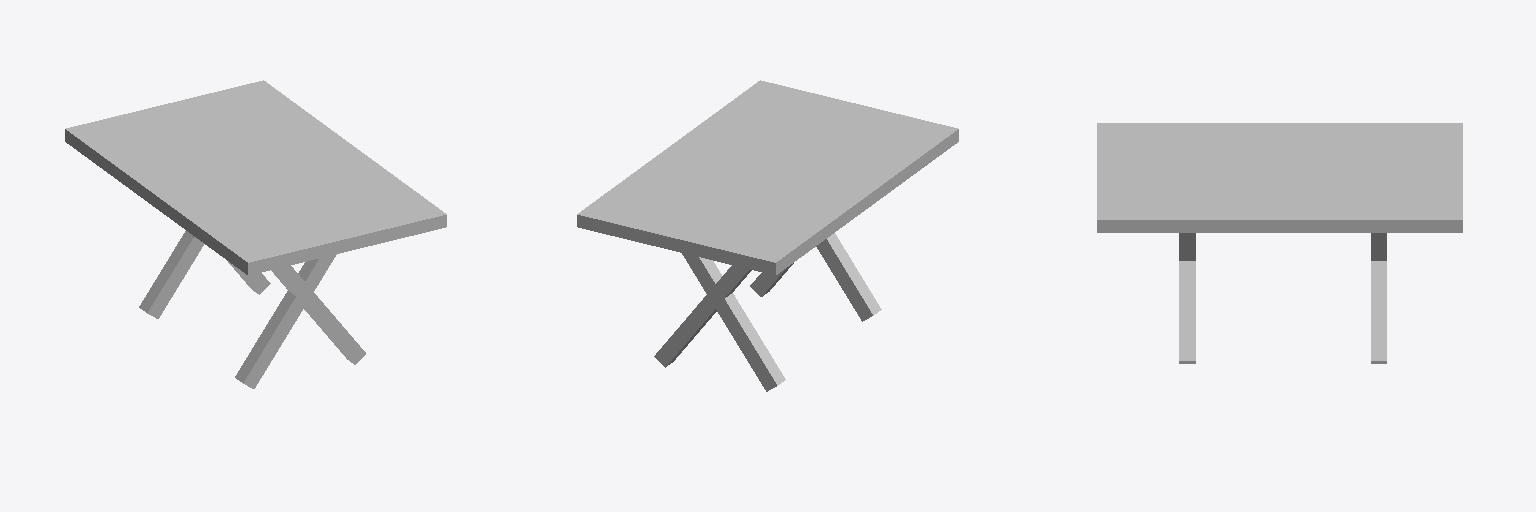
File: uploads_files_1975054_table.obj
The picture shows the model from 3 angles: view 1: azimuth 30°, elevation 25°; view 2: azimuth 150°, elevation 25°; view 3: azimuth 270°, elevation 25°; orthographic projection.
Visible parts, largest first — view 1: table_Cube.004; view 2: table_Cube.004; view 3: table_Cube.004.
Part boxes in pixels (bbox=[...]): table_Cube.004: bbox=[65, 80, 446, 388]; table_Cube.004: bbox=[577, 80, 958, 391]; table_Cube.004: bbox=[1097, 123, 1462, 363].
Bounding box in the file's own units: 0.8005 × 0.649 × 1.28.